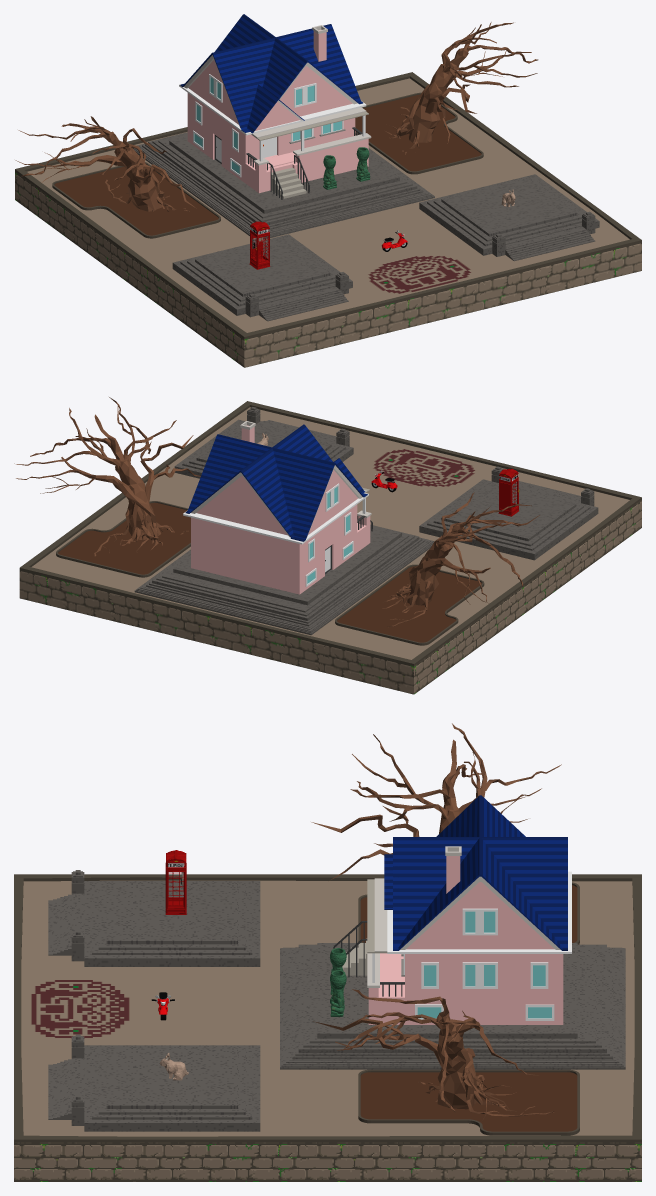
3 views of the same model, one above another, from view 1: azimuth 30°, elevation 25°; view 2: azimuth 150°, elevation 25°; view 3: azimuth 270°, elevation 25° (orthographic). The views are drawn at different scales.
Parts seen in each view (by area): view 1: Cube.011, Cube.313, OBJRANDOM_PHONEBOOTH; view 2: Cube.011, Cube.313, OBJRANDOM_PHONEBOOTH; view 3: Cube.011, Cube.313, OBJRANDOM_PHONEBOOTH.
Boxes of the visible parts, <box> form: Cube.011: <box>15,22,641,367</box>; Cube.313: <box>179,14,371,199</box>; OBJRANDOM_PHONEBOOTH: <box>249,221,270,269</box>; Cube.011: <box>14,397,641,694</box>; Cube.313: <box>183,421,372,594</box>; OBJRANDOM_PHONEBOOTH: <box>498,468,519,516</box>; Cube.011: <box>14,723,641,1181</box>; Cube.313: <box>333,795,571,1024</box>; OBJRANDOM_PHONEBOOTH: <box>165,850,186,914</box>.
Size of the model in its own units: 5099 by 1676 by 4000.
43 materials, 5 textured.
